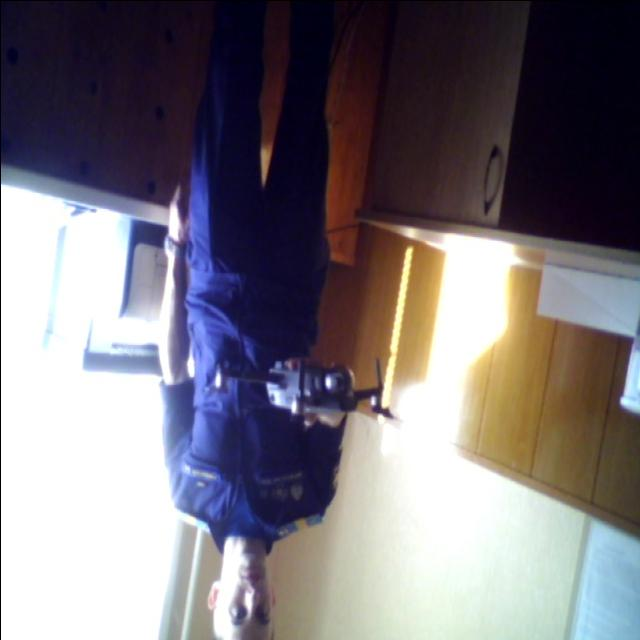drone: (202, 318, 406, 444)
